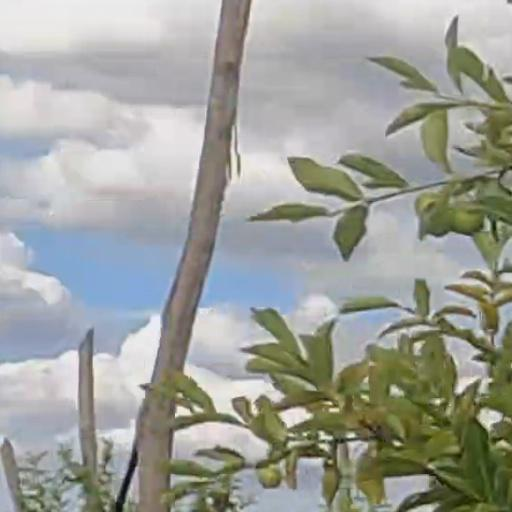acerola_verde: (424, 204, 450, 234), (452, 208, 484, 230)
